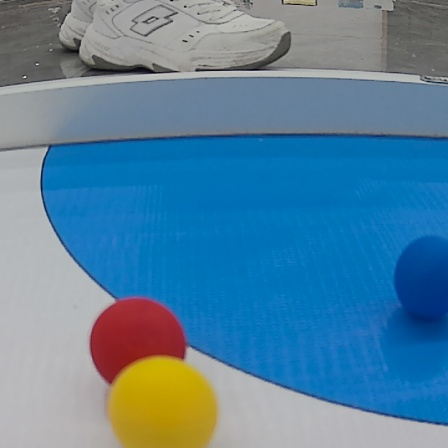blue: (387, 233, 448, 325)
blue_base: (38, 120, 448, 433)
red: (89, 298, 191, 394)
yellow: (107, 358, 224, 448)
